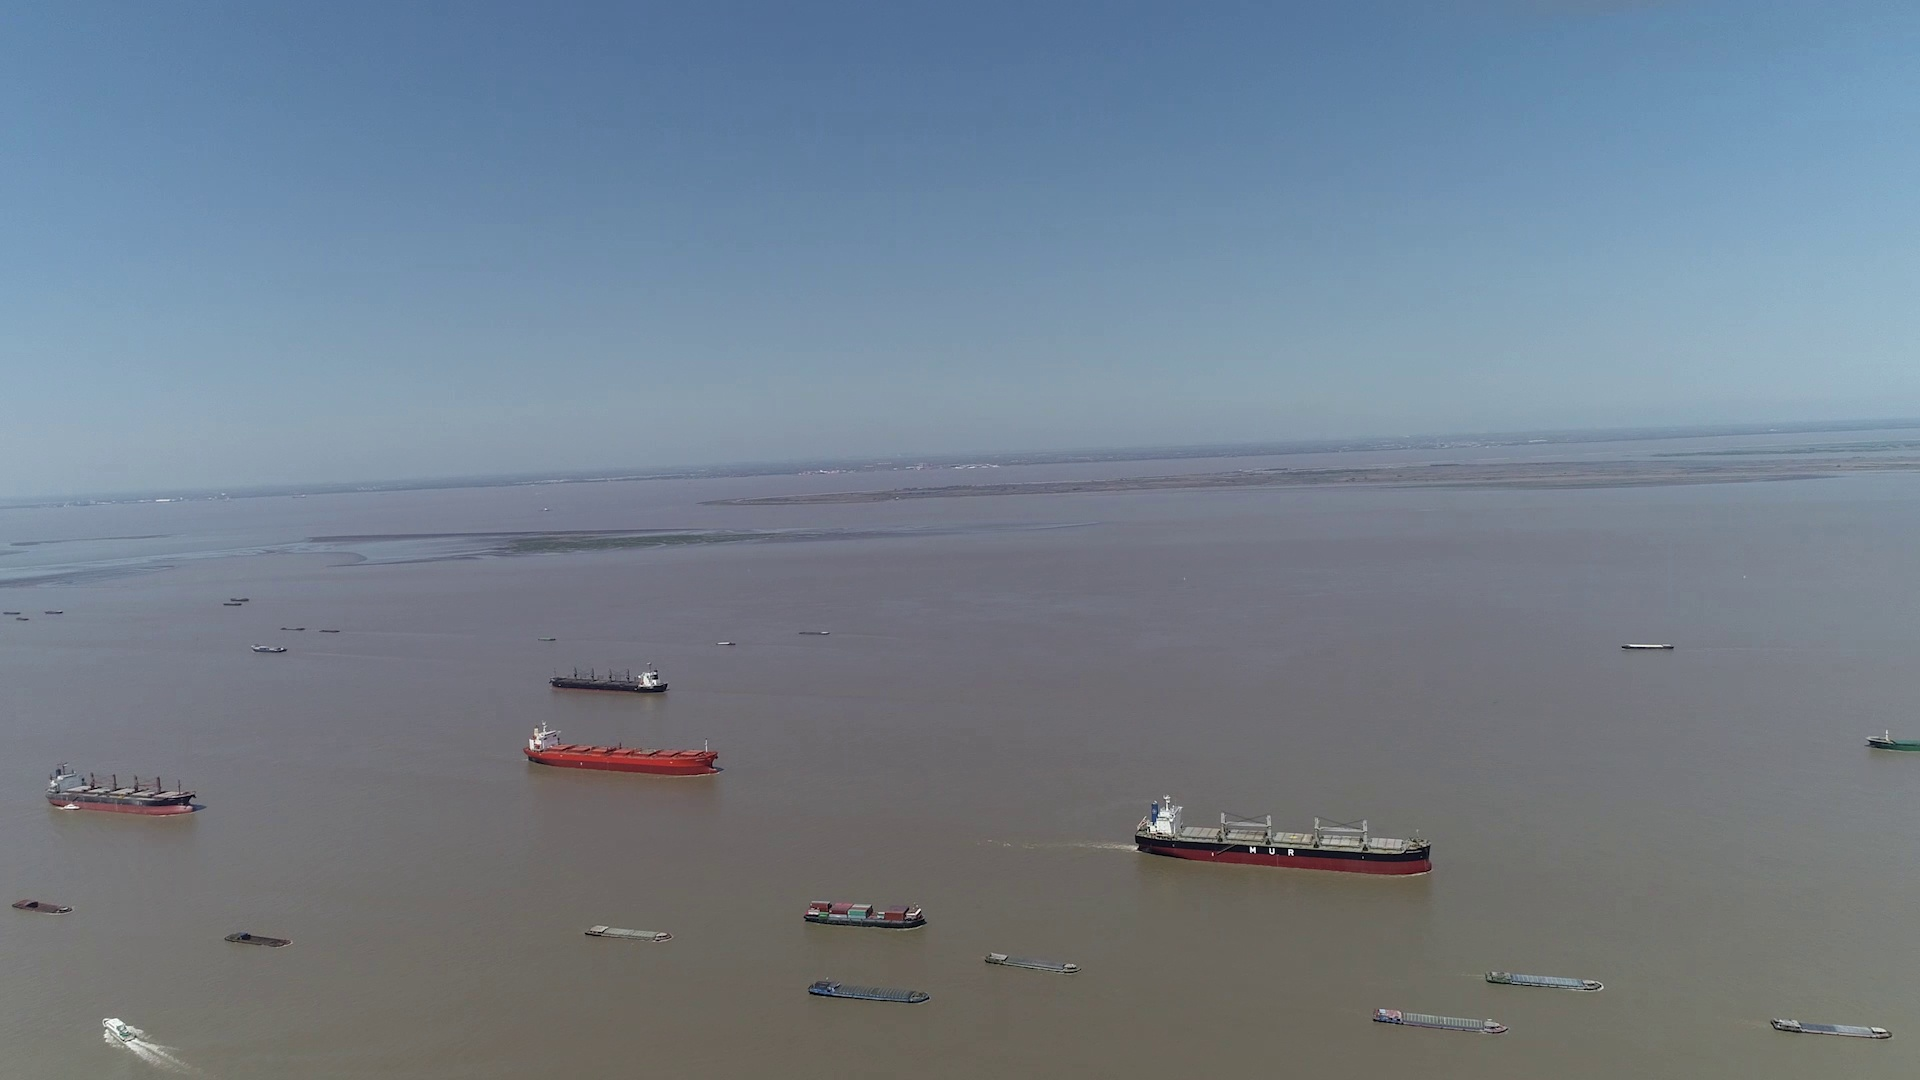ship: (1134, 793, 1428, 876), (522, 723, 717, 775), (47, 764, 198, 816), (799, 922, 926, 957), (1406, 992, 1552, 1021), (806, 953, 931, 986), (1371, 1006, 1507, 1033), (803, 898, 926, 927), (547, 665, 669, 694), (804, 978, 932, 1004), (1768, 1015, 1894, 1039), (1482, 969, 1604, 992), (982, 952, 1080, 975), (583, 924, 673, 943), (100, 1018, 145, 1044), (1865, 731, 1917, 752), (224, 931, 291, 947), (11, 899, 73, 913), (1622, 642, 1672, 650), (251, 644, 287, 653), (712, 640, 735, 646)
